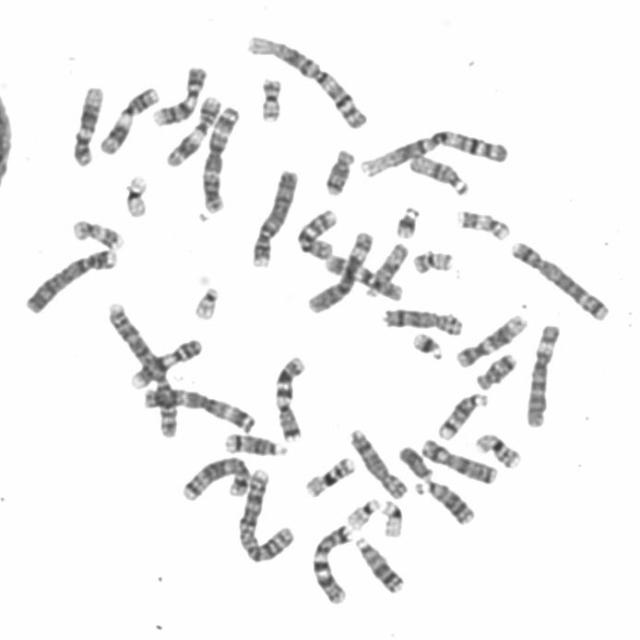A1: (242, 32, 370, 131), (356, 124, 507, 180)
A2: (104, 299, 180, 441), (234, 466, 297, 564)
A3: (140, 383, 256, 434), (197, 102, 241, 214)
B4: (21, 244, 119, 317), (247, 165, 300, 269)
B5: (507, 238, 611, 322), (179, 454, 252, 502)
C10: (321, 251, 404, 303), (294, 206, 340, 260)
C11: (161, 93, 224, 169), (96, 84, 161, 156)
C12: (452, 311, 528, 369), (68, 82, 105, 167)
C6: (304, 228, 376, 316), (522, 320, 562, 430)
C7: (307, 522, 354, 606), (270, 352, 308, 443)
C8: (346, 426, 409, 502), (379, 305, 465, 337)
C9: (126, 336, 204, 390), (150, 63, 208, 126)
D13: (351, 533, 406, 595), (412, 476, 476, 527)
D14: (433, 390, 489, 442), (220, 429, 290, 459)
D15: (362, 238, 412, 300), (407, 152, 471, 196)
E16: (301, 453, 357, 499), (472, 430, 523, 469)
E17: (453, 207, 513, 242), (69, 217, 126, 251)
E18: (319, 145, 357, 198), (473, 349, 519, 392)
F19: (121, 172, 150, 220), (379, 497, 405, 539)
F20: (256, 75, 284, 124), (410, 247, 454, 274)
G21: (408, 328, 446, 362), (393, 205, 419, 240)
G22: (343, 494, 382, 531), (190, 282, 220, 322)
X: (419, 434, 498, 486)
Y: (395, 442, 433, 481)
